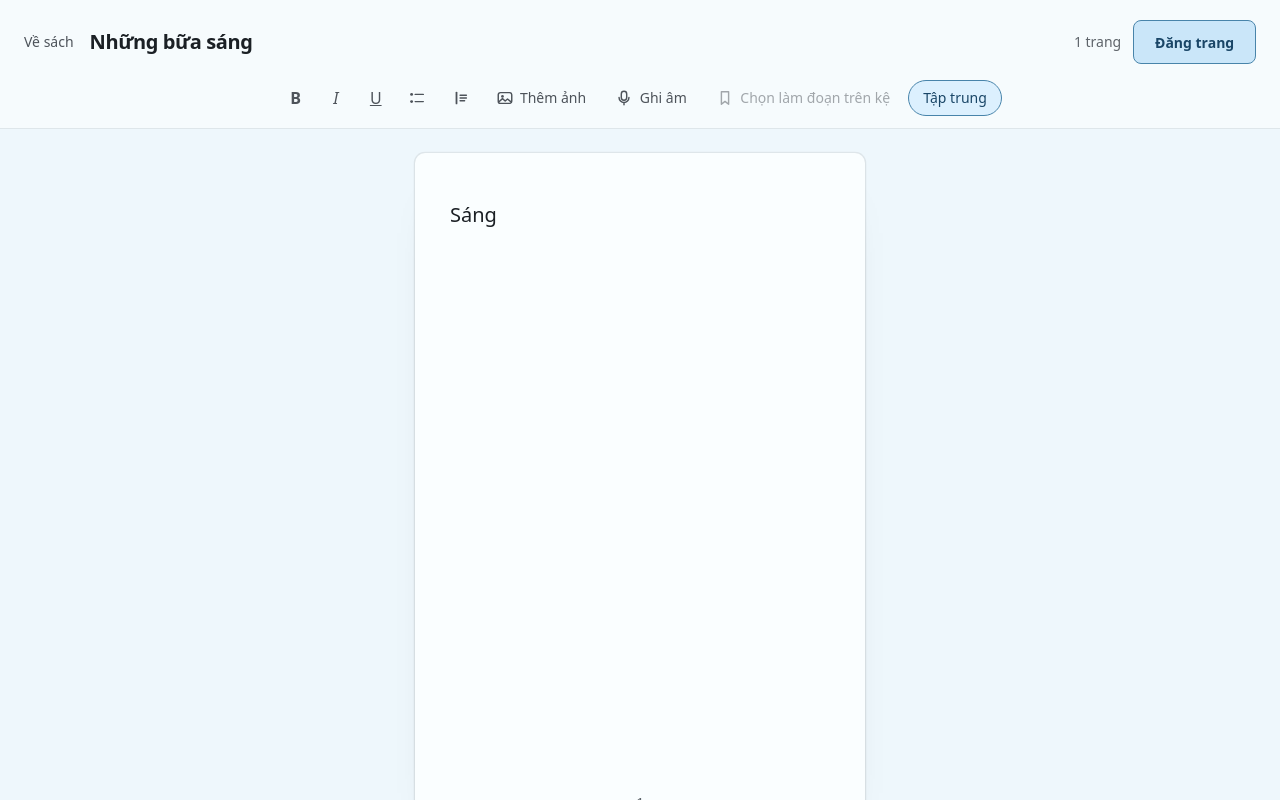
Scenario: ghi am › xin micro, ghi va dem gio, dung thi nghe thu; tai hong thi bao, Chen lai gui ms va song am roi chen khoi
Click the button "Ghi âm": click(652, 98) [604,80,700,116]
Wait 42000 ms
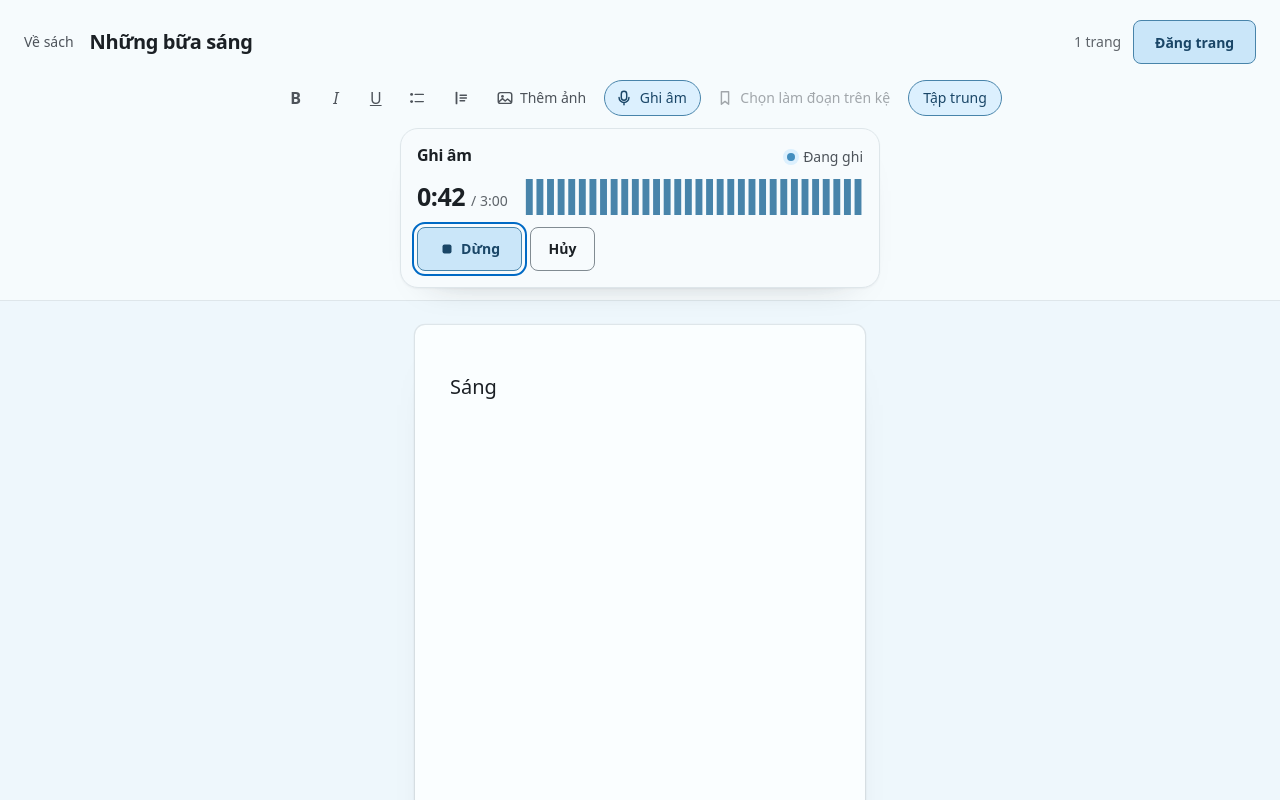
expect the element with class "ghi-am-hop__trang-thai" reads "Đang ghi": met, box [803,147,863,166]
Click the button "Dừng": click(470, 249) [417,227,522,271]
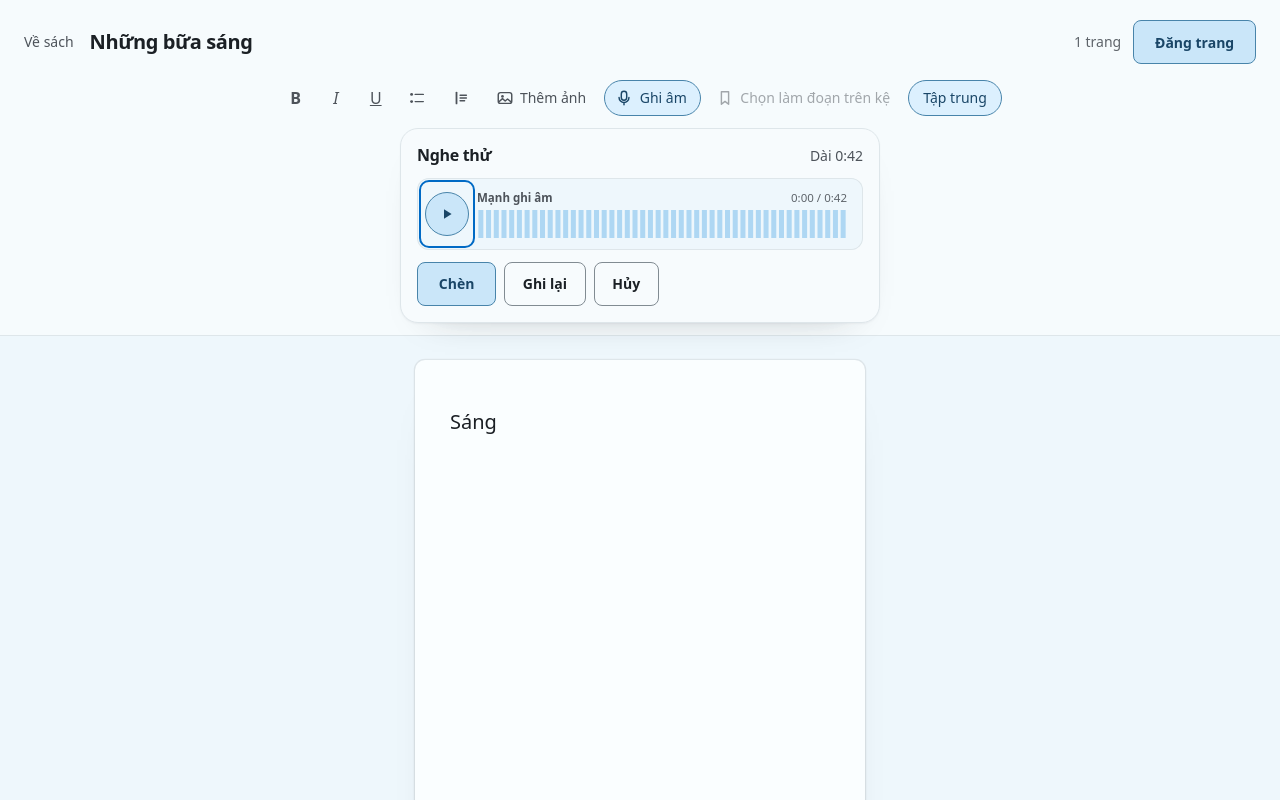
expect the text with class "ghi-am-hop__trang-thai" reads "Dài 0:42": met, box [810,146,863,165]
expect the element named "Mạnh ghi âm, dài 0:42" is shown: met, box [417,178,863,250]
Click the button "Chèn": click(457, 284) [417,262,496,306]
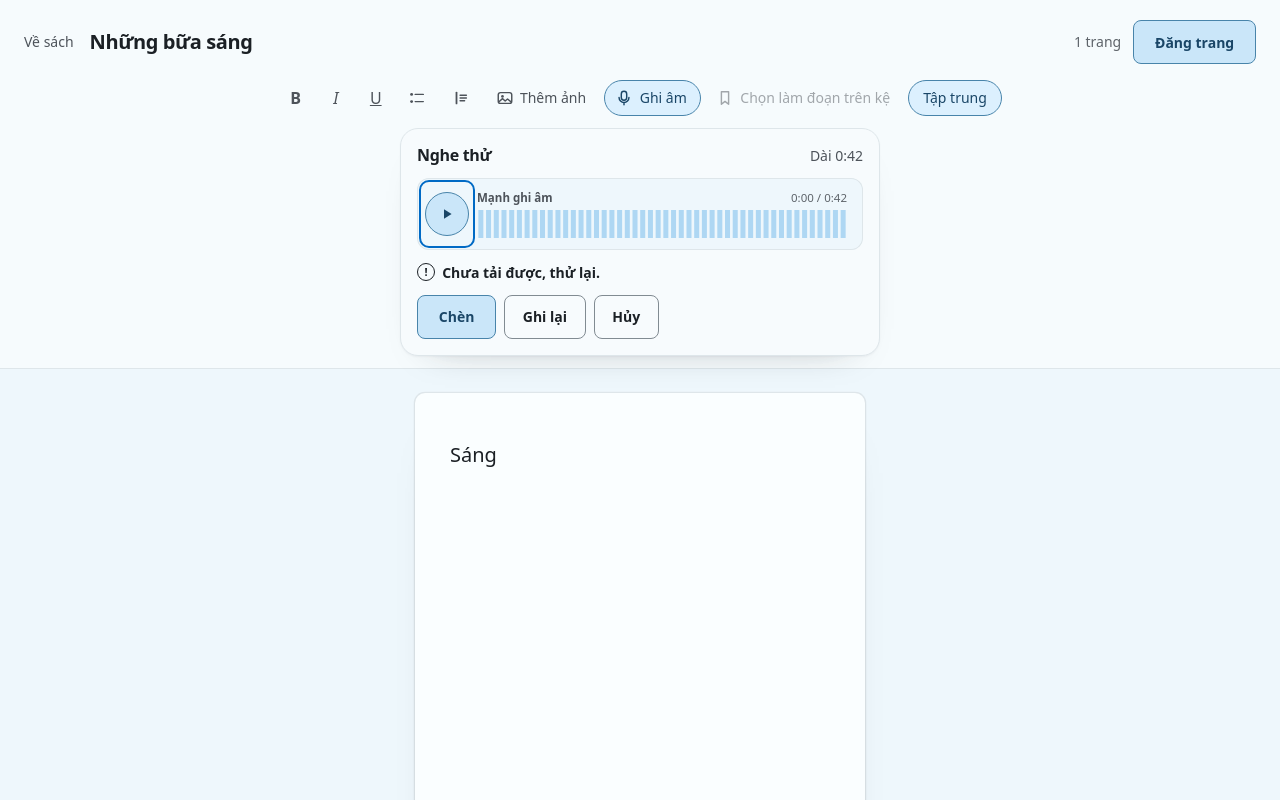
Click the button "Chèn": click(457, 317) [417,295,496,339]
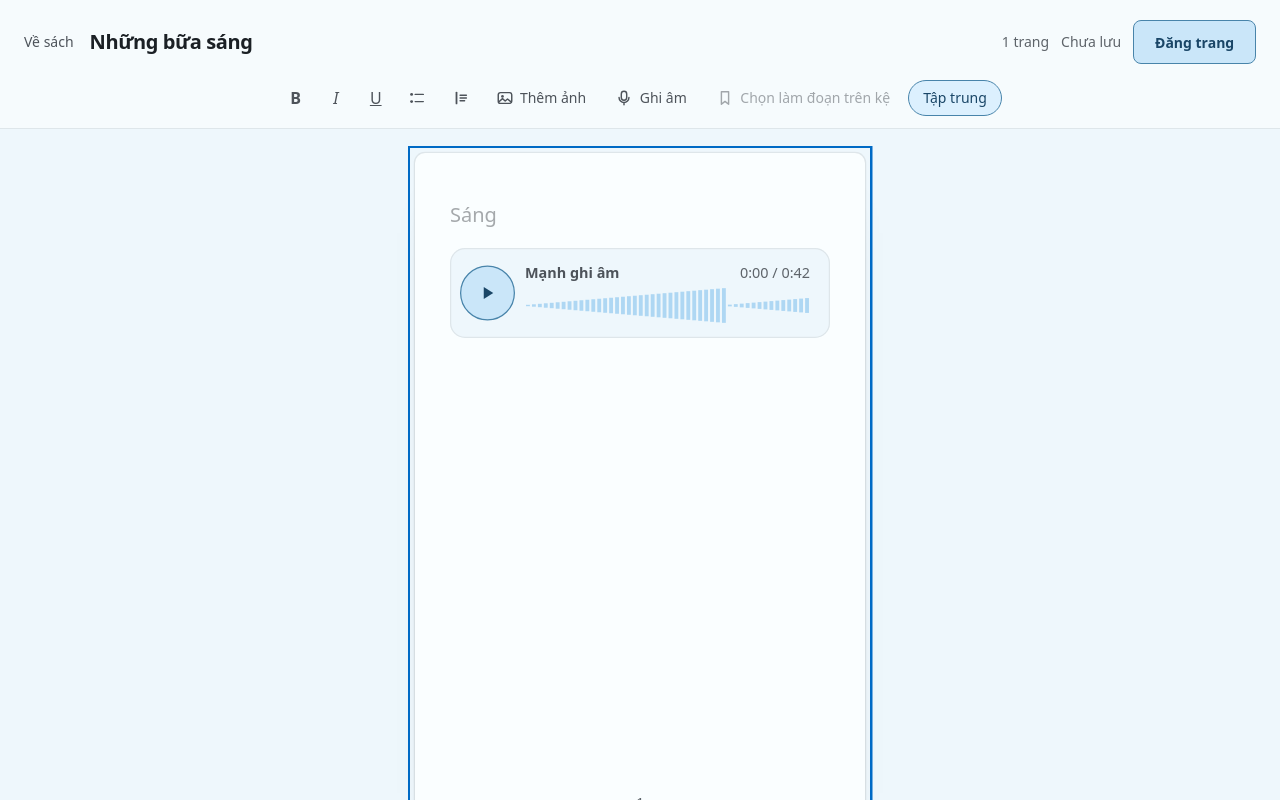
expect the heading "Nghe thử" is gone: met
expect the button "Ghi âm" is collapsed: met, box [604,80,700,116]
